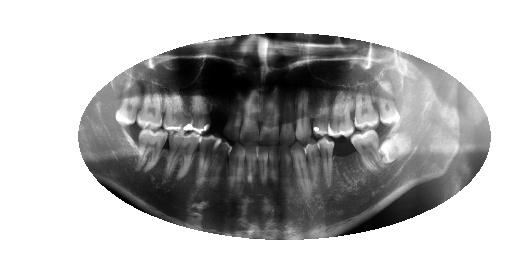i10decay: (243, 144, 258, 189)
i11decay: (228, 145, 246, 195)
i12decay: (212, 141, 232, 189)
i13decay: (198, 134, 220, 189)
i14chipped: (169, 129, 197, 180)
i15healthy: (134, 129, 168, 173)
i16loss: (115, 128, 136, 170)
i1loss: (378, 125, 415, 169)
i2healthy: (350, 127, 381, 179)
i3loss: (335, 142, 360, 182)
i4healthy: (318, 138, 336, 190)
i5healthy: (303, 140, 321, 188)
i6healthy: (290, 141, 310, 202)
i7decay: (280, 144, 294, 199)
i8decay: (270, 143, 282, 195)
i9decay: (258, 144, 270, 191)
u10decay: (226, 88, 243, 139)
u11loss: (210, 86, 229, 135)
u12decay: (186, 86, 209, 132)
u13healthy: (162, 86, 186, 131)
u14healthy: (136, 87, 164, 128)
u15healthy: (114, 87, 143, 124)
u16loss: (106, 95, 121, 127)
u1loss: (400, 93, 417, 124)
u2healthy: (378, 83, 399, 125)
u3healthy: (354, 82, 379, 128)
u4healthy: (327, 89, 356, 136)
u5chipped: (313, 89, 332, 138)
u6healthy: (295, 88, 312, 142)
u7decay: (279, 89, 295, 144)
u8decay: (260, 90, 280, 143)
u9decay: (239, 89, 262, 144)
